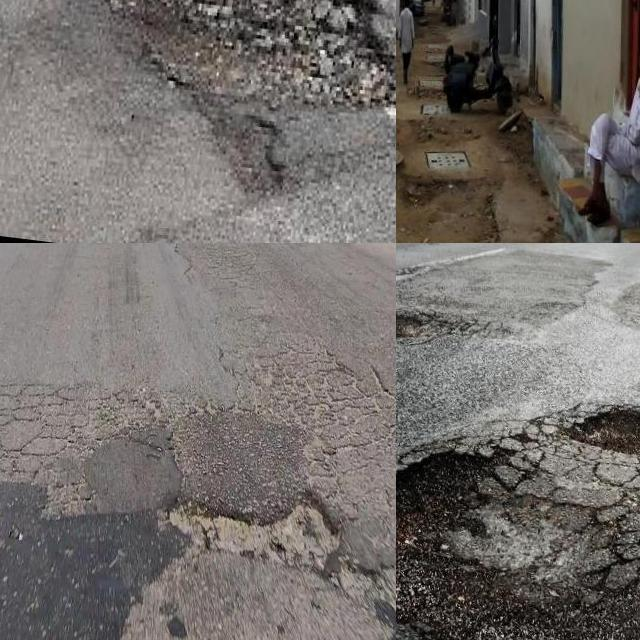Manhole: (425, 151, 469, 169)
Pothole: (396, 449, 640, 640), (102, 0, 396, 111), (162, 481, 344, 577), (567, 403, 640, 457), (402, 174, 462, 209), (396, 312, 427, 339), (421, 104, 450, 116), (418, 79, 443, 90), (426, 53, 444, 62), (427, 43, 447, 51)
